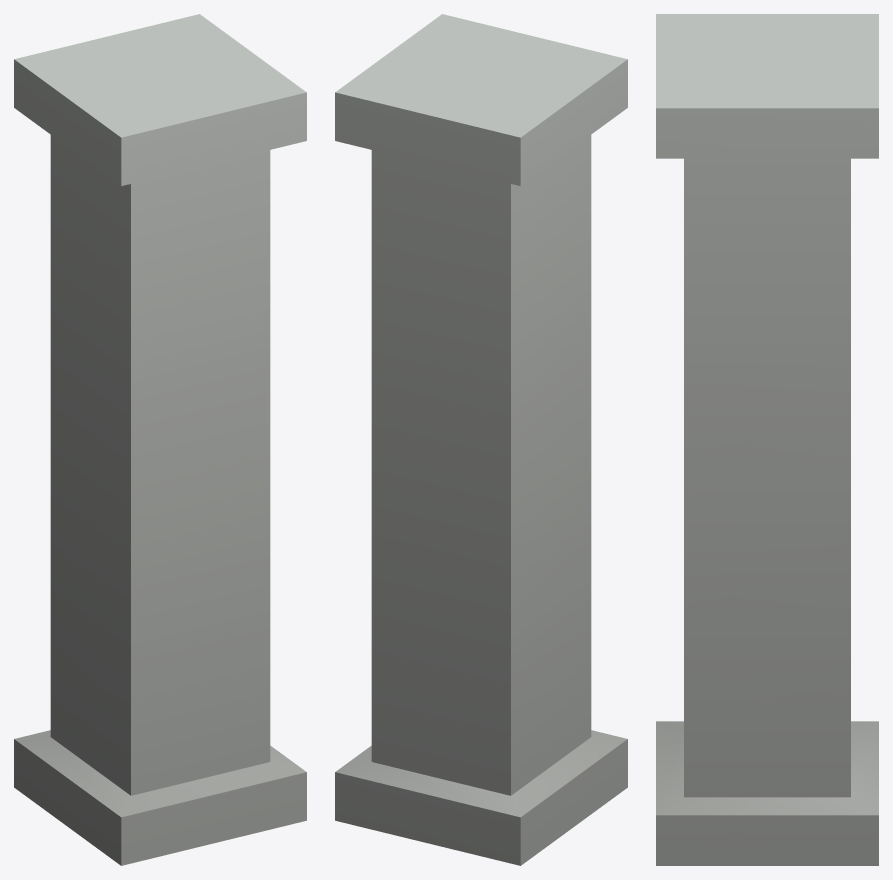
File: Pillar_1x2.fbx
3 renders of one model, left to right at view 1: azimuth 30°, elevation 25°; view 2: azimuth 150°, elevation 25°; view 3: azimuth 270°, elevation 25°, orthographic. The views are drawn at different scales.
Parts seen in each view (by area): view 1: Pillar_1x2; view 2: Pillar_1x2; view 3: Pillar_1x2.
Part boxes in pixels (<box>): Pillar_1x2: <box>14,14,306,865</box>; Pillar_1x2: <box>335,14,627,865</box>; Pillar_1x2: <box>656,14,878,865</box>.
Size of the model in its own units: 50 by 188 by 50.
